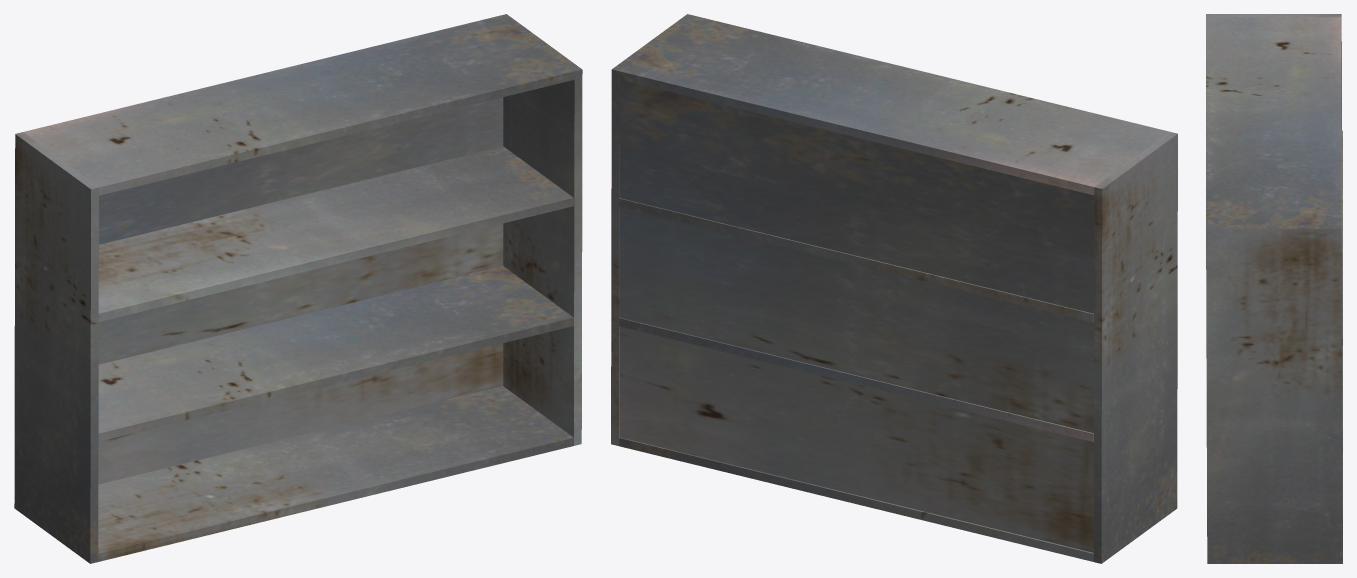
The model's file is cabin03b.fbx.
3 views of the same model, side by side, from view 1: azimuth 30°, elevation 25°; view 2: azimuth 150°, elevation 25°; view 3: azimuth 270°, elevation 25° (orthographic). The views are drawn at different scales.
Parts seen in each view (by area): view 1: cabin03b; view 2: cabin03b; view 3: cabin03b.
Part boxes in pixels (x1=…): cabin03b: x1=14, y1=14, x2=582, y2=563; cabin03b: x1=611, y1=14, x2=1177, y2=563; cabin03b: x1=1206, y1=14, x2=1342, y2=563.
Size of the model in its own units: 124 by 90.41 by 33.45.
